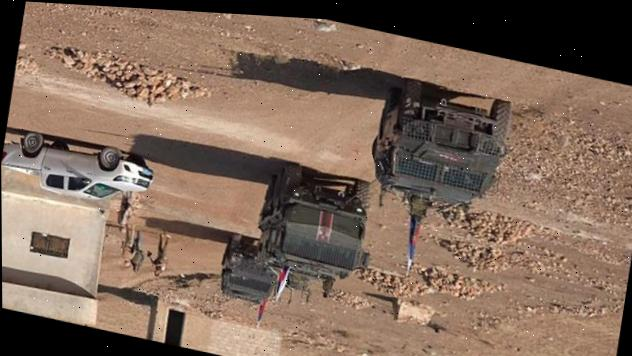armored_car: (360, 70, 516, 234), (215, 229, 283, 307)
car: (1, 119, 163, 216)
person: (145, 230, 170, 277), (116, 221, 139, 268), (113, 187, 135, 234), (127, 227, 148, 273)
truck: (249, 154, 382, 292)
